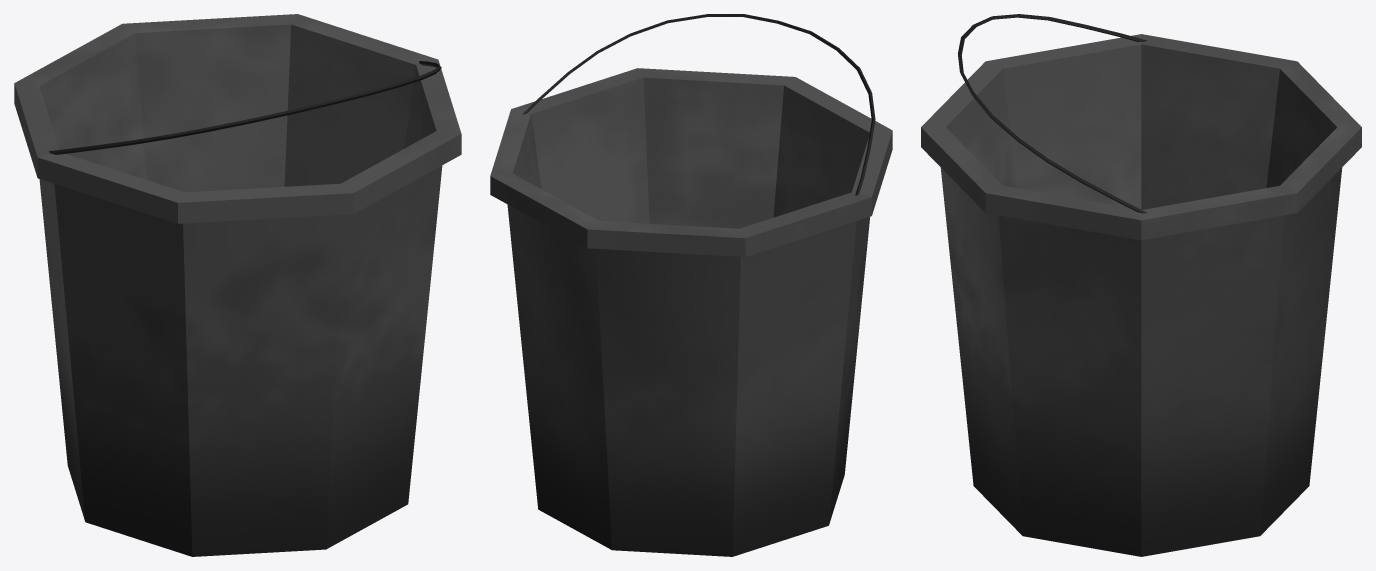
Rendered from SM_bucket.fbx.
3 renders of one model, left to right at view 1: azimuth 30°, elevation 25°; view 2: azimuth 150°, elevation 25°; view 3: azimuth 270°, elevation 25°, orthographic. The views are drawn at different scales.
Parts seen in each view (by area): view 1: SM_bucket; view 2: SM_bucket; view 3: SM_bucket.
Boxes of the visible parts, x1,y1,x2,y2 form: SM_bucket: (14, 14, 461, 556); SM_bucket: (490, 14, 892, 556); SM_bucket: (921, 14, 1361, 556).
Size of the model in its own units: 1.05 by 1.14 by 1.05.
